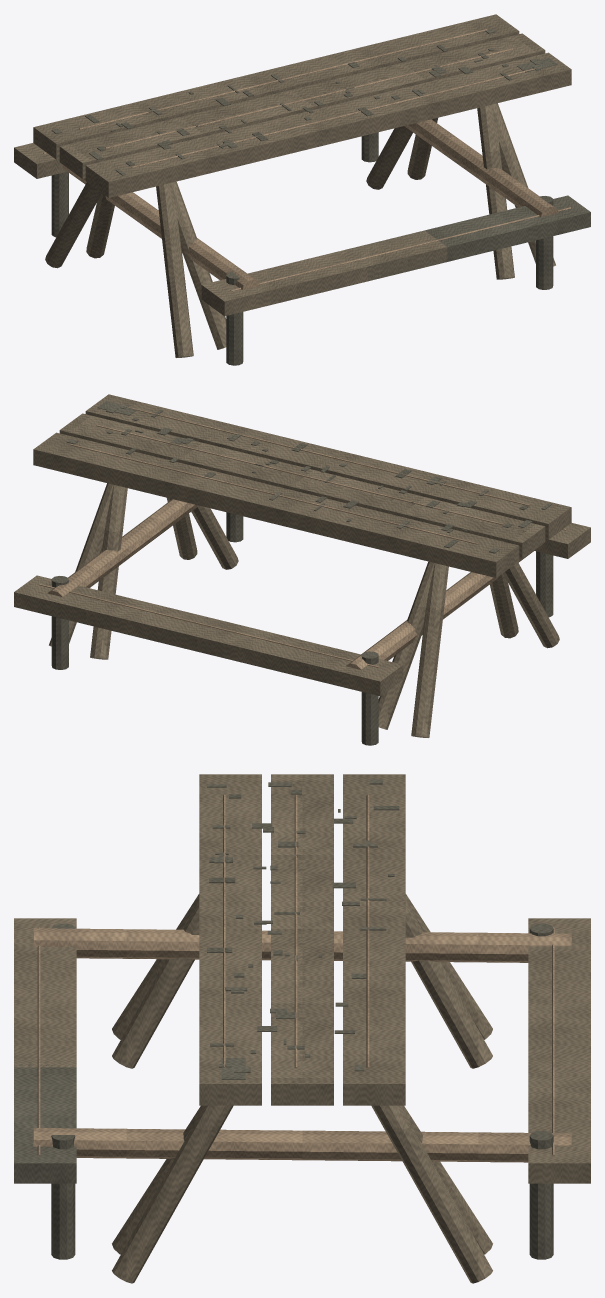
File: rotting_picnic_table.glb
3 views of the same model, one above another, from view 1: azimuth 30°, elevation 25°; view 2: azimuth 150°, elevation 25°; view 3: azimuth 270°, elevation 25° (orthographic). The views are drawn at different scales.
Visible parts, largest first — view 1: AshfallDecorativeProp; view 2: AshfallDecorativeProp; view 3: AshfallDecorativeProp.
Boxes of the visible parts, <box> form: AshfallDecorativeProp: <box>14,14,590,365</box>; AshfallDecorativeProp: <box>14,394,590,745</box>; AshfallDecorativeProp: <box>14,774,590,1283</box>.
Size of the model in its own units: 2.45 by 0.8657 by 1.93.
Materials: 3 (3 with a texture image).
